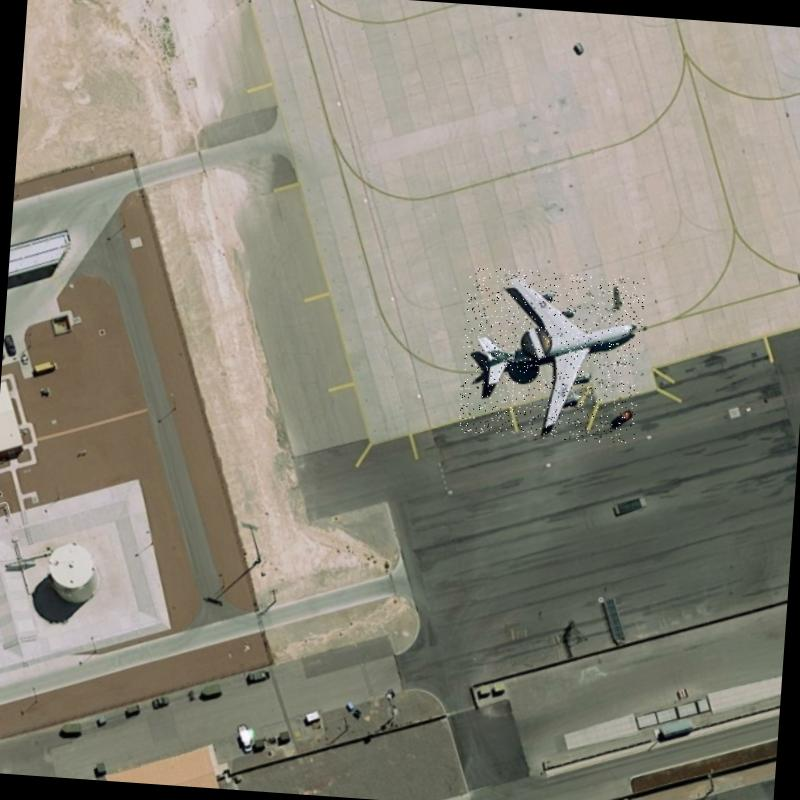A7: (457, 266, 645, 444)
